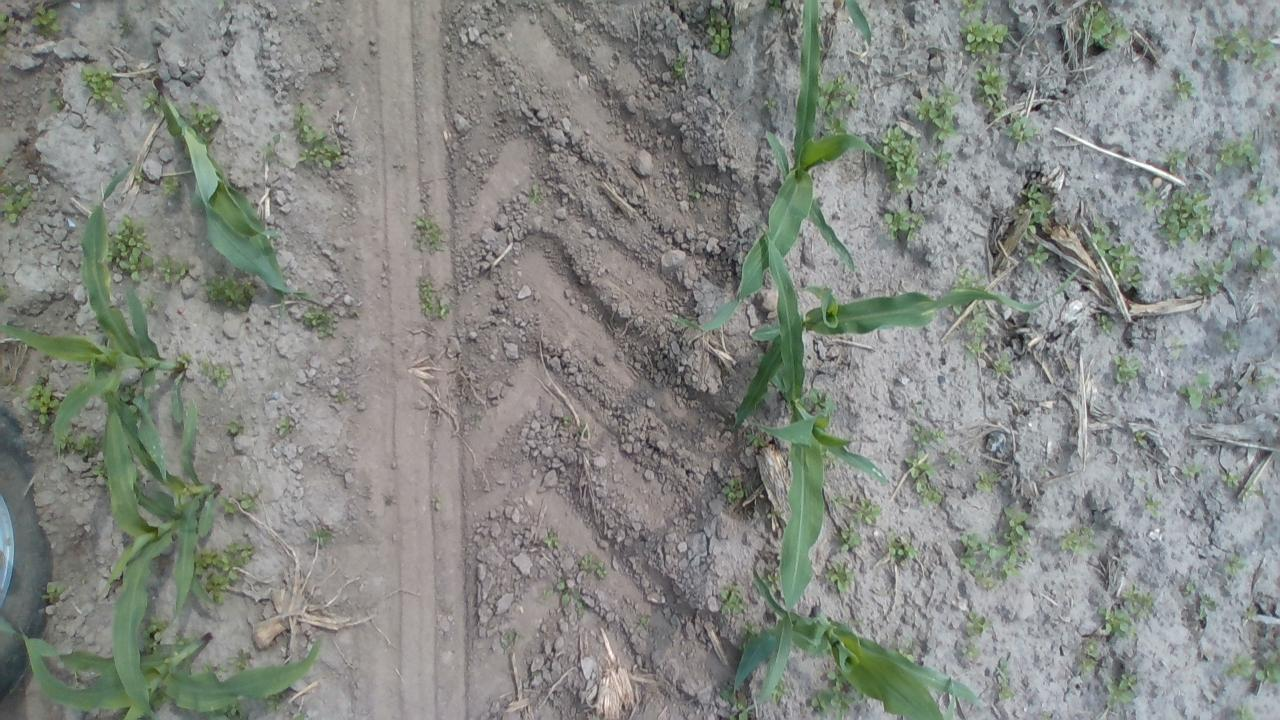Maize: (674, 0, 891, 332), (744, 228, 888, 704), (0, 152, 200, 481), (730, 266, 1082, 434), (95, 364, 222, 720), (142, 77, 328, 300), (732, 571, 988, 720), (0, 626, 325, 720), (841, 0, 875, 48)
Weeds: (1144, 186, 1216, 248), (974, 504, 1033, 579), (194, 542, 258, 607), (292, 102, 348, 168), (104, 214, 154, 283), (806, 662, 864, 718), (877, 124, 922, 195), (912, 86, 962, 144), (1077, 1, 1131, 52), (1169, 256, 1233, 299), (950, 302, 992, 364), (819, 74, 860, 134), (80, 65, 127, 113), (905, 452, 944, 507), (202, 273, 258, 310), (960, 18, 1011, 58), (1227, 646, 1280, 684), (972, 60, 1009, 114), (1019, 184, 1052, 240), (542, 578, 586, 618), (415, 274, 452, 320), (1216, 134, 1260, 172), (1179, 373, 1225, 409), (1104, 241, 1142, 284), (882, 208, 924, 246), (956, 532, 996, 571), (409, 214, 446, 255), (26, 383, 58, 430), (1120, 582, 1156, 620), (56, 430, 102, 459), (0, 184, 32, 224), (1214, 26, 1249, 62), (1058, 522, 1096, 555), (300, 306, 338, 339), (706, 12, 734, 56), (1105, 673, 1140, 708), (157, 256, 195, 286), (720, 686, 753, 720), (186, 102, 222, 132), (884, 532, 920, 562), (31, 6, 66, 36), (226, 488, 263, 516), (1006, 114, 1038, 146), (140, 618, 168, 654), (1102, 606, 1134, 637), (1088, 218, 1114, 255), (1247, 35, 1276, 68), (718, 584, 746, 618), (826, 562, 854, 596), (909, 421, 947, 446), (201, 358, 231, 389), (1114, 354, 1144, 385), (836, 524, 864, 554), (578, 554, 608, 582), (963, 609, 990, 639), (995, 658, 1014, 700), (722, 476, 746, 509), (951, 270, 987, 292), (853, 496, 881, 524), (1172, 72, 1198, 102), (1164, 147, 1192, 174), (1078, 638, 1100, 672), (804, 388, 835, 412), (1220, 552, 1248, 578), (990, 352, 1016, 380), (563, 414, 591, 440), (972, 469, 1001, 494), (1250, 245, 1276, 271), (1252, 372, 1280, 396), (262, 134, 286, 162), (304, 524, 333, 547), (1248, 180, 1272, 207), (138, 91, 166, 114), (1025, 243, 1049, 269), (44, 93, 70, 116), (498, 629, 524, 652), (894, 637, 916, 664), (670, 47, 689, 78), (1194, 593, 1218, 617), (522, 182, 546, 206), (274, 412, 296, 437), (1240, 483, 1267, 503), (122, 384, 139, 415), (227, 650, 254, 669), (956, 0, 986, 17), (41, 582, 67, 601), (160, 176, 182, 198), (977, 570, 999, 592), (932, 148, 954, 170), (138, 290, 159, 313), (771, 679, 789, 705), (542, 530, 563, 552), (1230, 704, 1258, 720), (221, 700, 247, 717), (958, 642, 980, 662), (114, 16, 134, 38), (1221, 468, 1245, 486), (1222, 330, 1241, 352), (0, 11, 13, 43), (746, 433, 770, 450), (740, 618, 759, 639), (946, 447, 963, 470), (1143, 496, 1163, 515), (1180, 578, 1198, 598), (1096, 312, 1114, 332), (334, 388, 352, 408), (1164, 338, 1189, 352), (1132, 430, 1152, 447), (762, 95, 779, 115), (829, 492, 846, 511), (92, 461, 109, 480), (1180, 464, 1204, 477), (226, 419, 244, 436), (634, 616, 654, 631), (177, 352, 191, 373), (173, 630, 190, 646), (1242, 606, 1260, 620), (766, 509, 786, 521), (132, 169, 146, 185), (688, 186, 702, 202), (765, 0, 782, 6)
